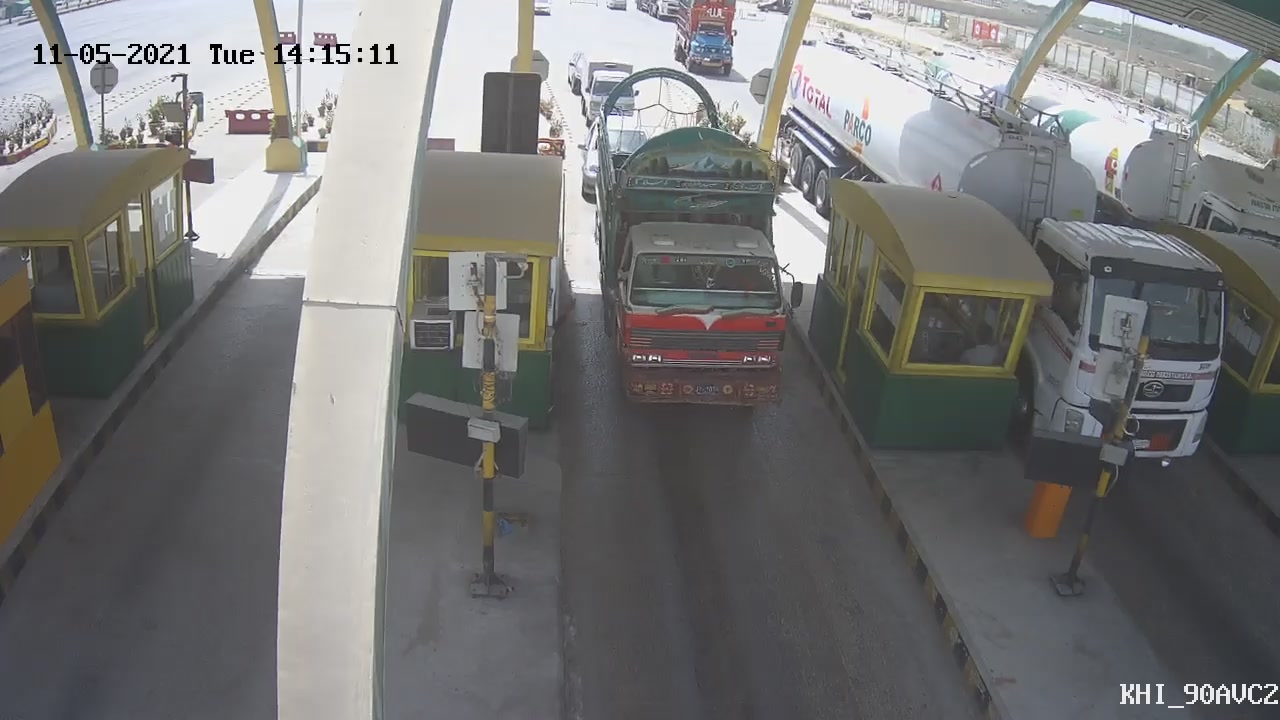F5: (585, 64, 801, 424)
